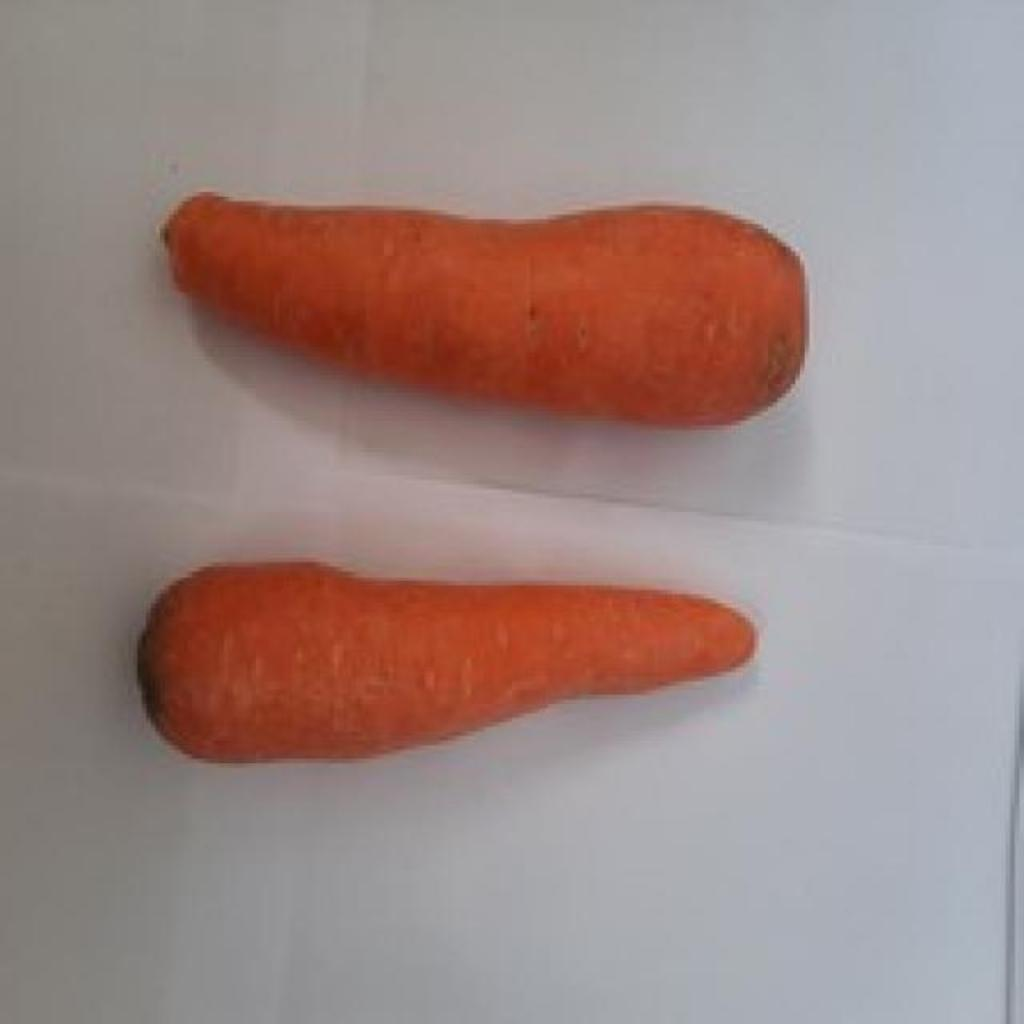carrot: (164, 192, 806, 426), (138, 562, 756, 762)
